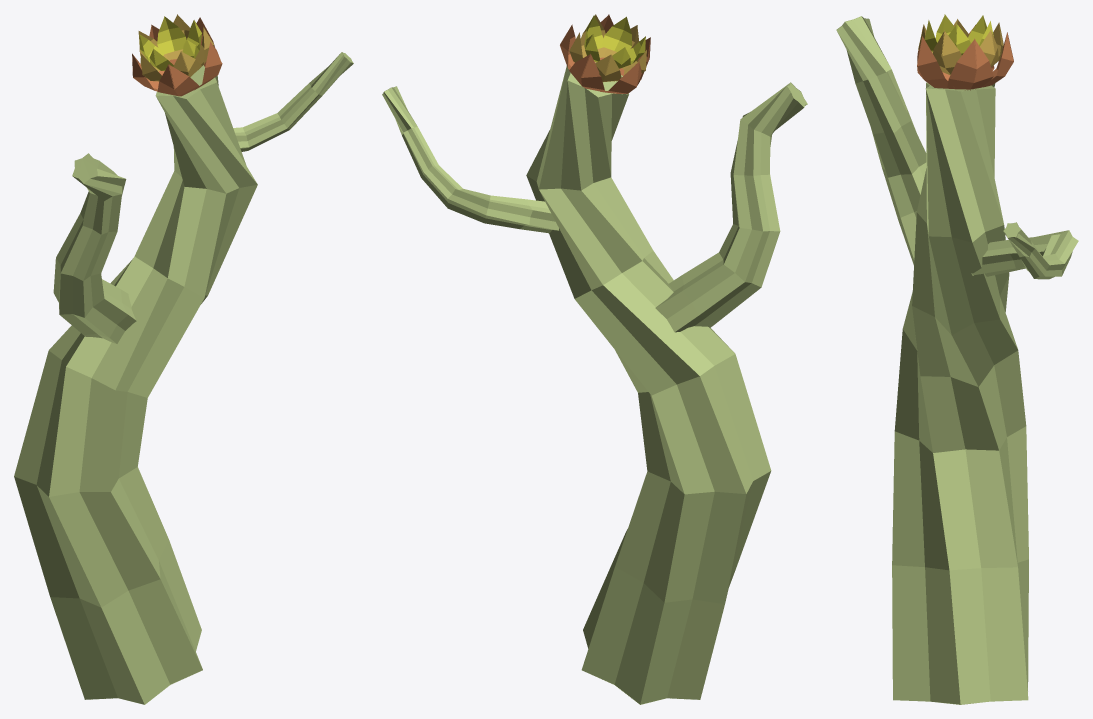
The model's file is cactus.fbx.
The picture shows the model from 3 angles, left to right: view 1: azimuth 30°, elevation 25°; view 2: azimuth 150°, elevation 25°; view 3: azimuth 270°, elevation 25°; orthographic projection. The views are drawn at different scales.
Parts seen in each view (by area): view 1: tree, flower outside, flower inside, flower middle; view 2: tree, flower outside, flower inside, flower middle; view 3: tree, flower outside, flower middle, flower inside.
Boxes of the visible parts, x1,y1,x2,y2 form: tree: [14, 52, 353, 704]; flower outside: [132, 17, 222, 96]; flower inside: [139, 16, 202, 70]; flower middle: [138, 14, 213, 81]; tree: [382, 62, 807, 704]; flower outside: [560, 14, 650, 93]; flower inside: [584, 15, 645, 68]; flower middle: [569, 14, 646, 82]; tree: [836, 16, 1078, 704]; flower outside: [917, 25, 1013, 90]; flower middle: [918, 19, 1003, 75]; flower inside: [924, 14, 993, 54].
Size of the model in its own units: 464 by 831 by 253.
